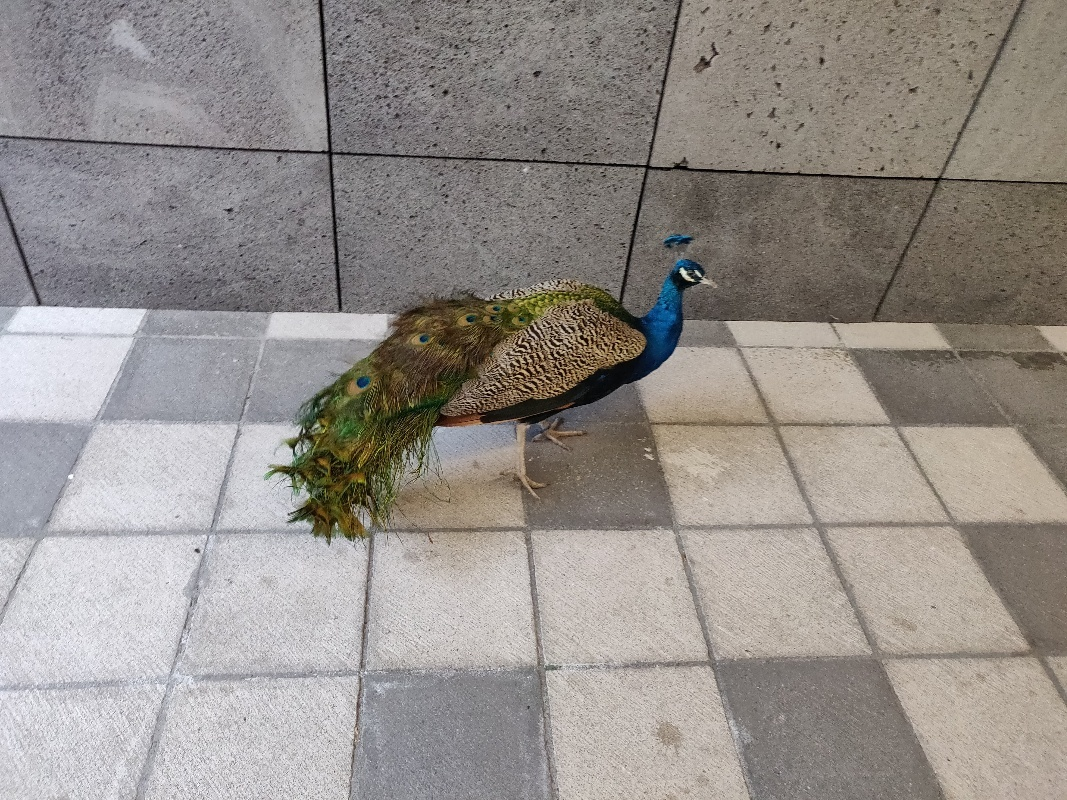pavoreal: (441, 233, 720, 427)
